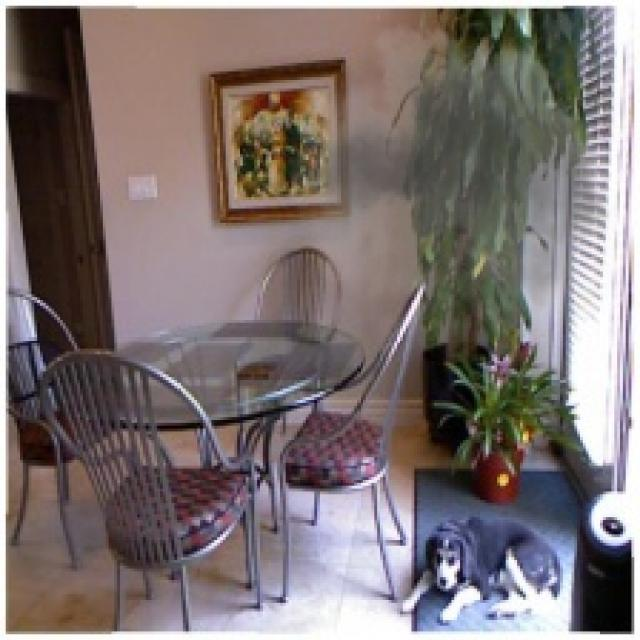smoke: (288, 9, 632, 374)
